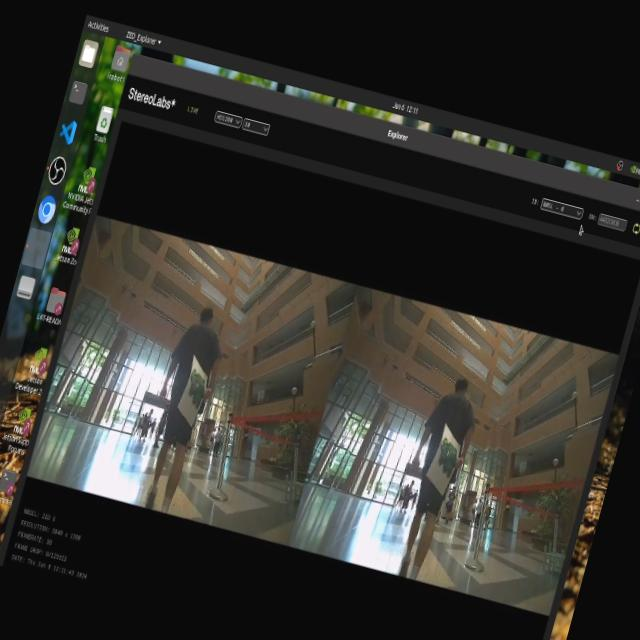green: (432, 439, 466, 480), (180, 369, 208, 408)
